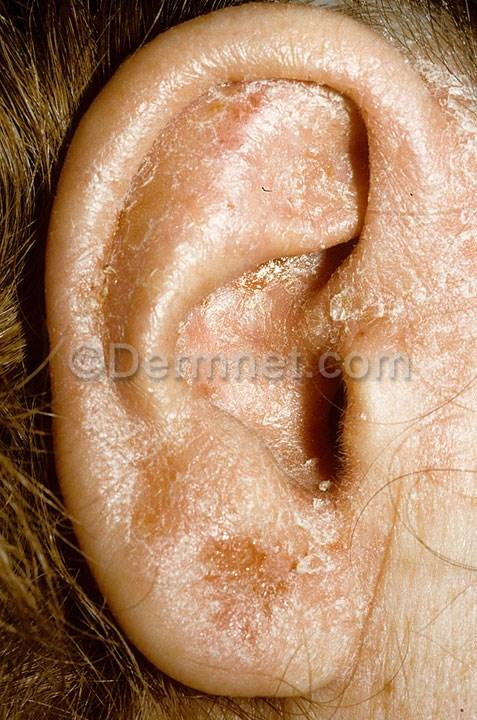Eczema: (143, 422, 248, 532), (252, 561, 354, 673), (358, 471, 440, 605), (349, 69, 456, 167), (150, 547, 258, 644), (238, 490, 351, 574), (362, 315, 469, 397), (365, 385, 472, 459), (86, 503, 170, 597), (218, 110, 298, 204), (88, 315, 162, 416), (189, 45, 277, 129), (125, 79, 218, 158), (64, 386, 140, 481), (147, 166, 225, 243), (401, 164, 477, 242), (354, 222, 418, 312), (288, 124, 357, 200), (249, 362, 311, 444), (98, 238, 164, 315), (59, 239, 128, 311), (297, 268, 353, 354), (419, 241, 477, 323), (284, 28, 360, 89), (75, 159, 141, 225), (238, 261, 296, 332), (193, 318, 259, 380)
